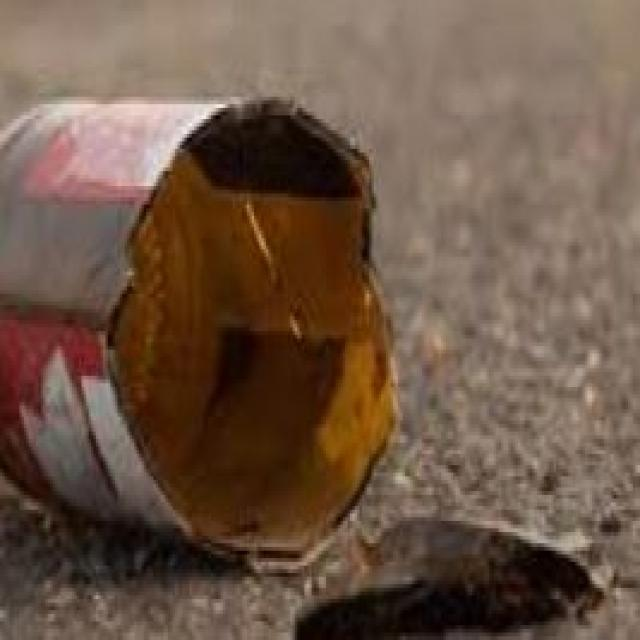electronic: (0, 94, 402, 581)
